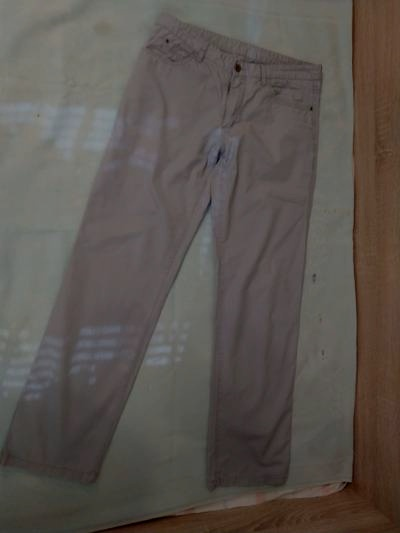Pants: (18, 12, 341, 511)
